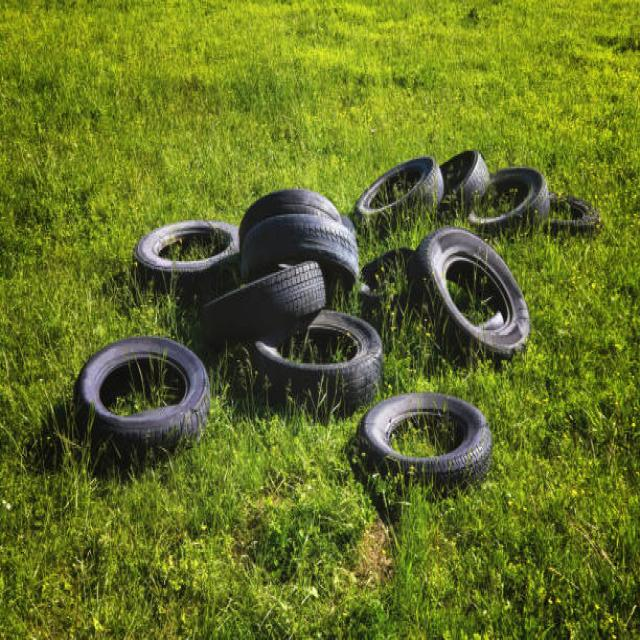tire: (72, 335, 210, 467), (412, 225, 529, 363), (250, 307, 383, 418), (356, 390, 492, 492), (199, 259, 327, 346), (238, 209, 359, 291), (132, 217, 239, 300), (352, 154, 443, 236), (238, 187, 341, 249), (467, 165, 549, 238), (437, 148, 490, 217), (544, 192, 600, 234)
